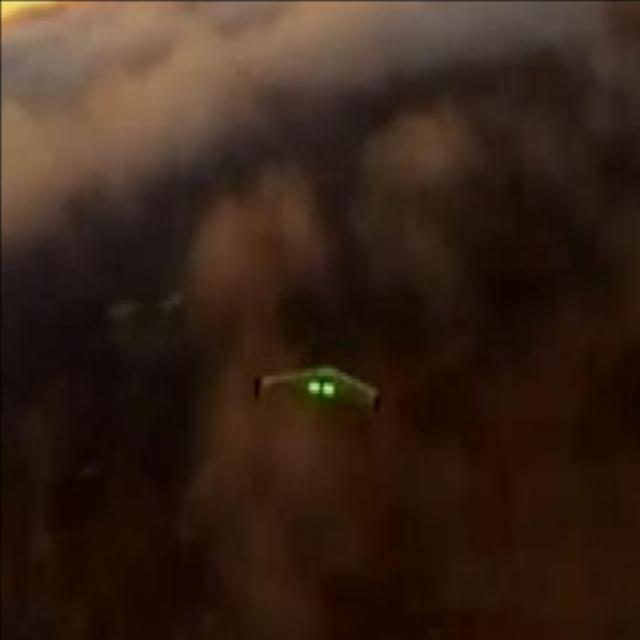plane: (248, 360, 382, 415)
